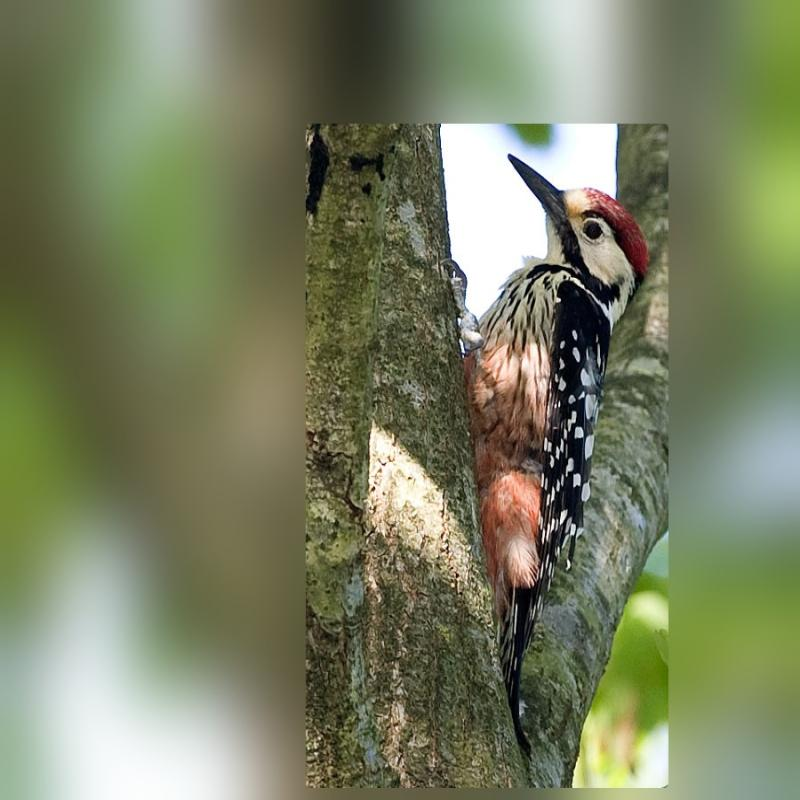white-backed woodpecker: (450, 141, 653, 692)
